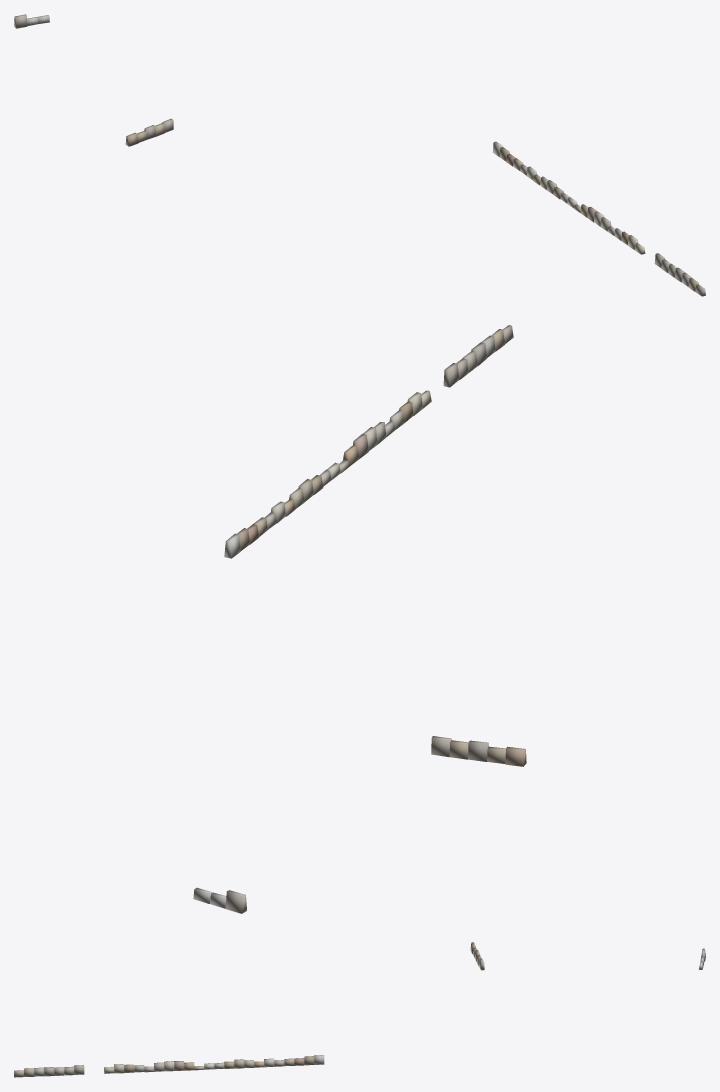
The model's file is farm_14_17_far.glb.
3 renders of one model, top to bottom at view 1: azimuth 30°, elevation 25°; view 2: azimuth 150°, elevation 25°; view 3: azimuth 270°, elevation 25°, orthographic. The views are drawn at different scales.
Parts seen in each view (by area): view 1: geometry_0; view 2: geometry_0; view 3: geometry_0.
Part boxes in pixels (x1,y1,x2,y2): geometry_0: (14,14,705,296); geometry_0: (193,325,526,913); geometry_0: (14,942,705,1077).
Size of the model in its own units: 43.78 by 4.35 by 110.
